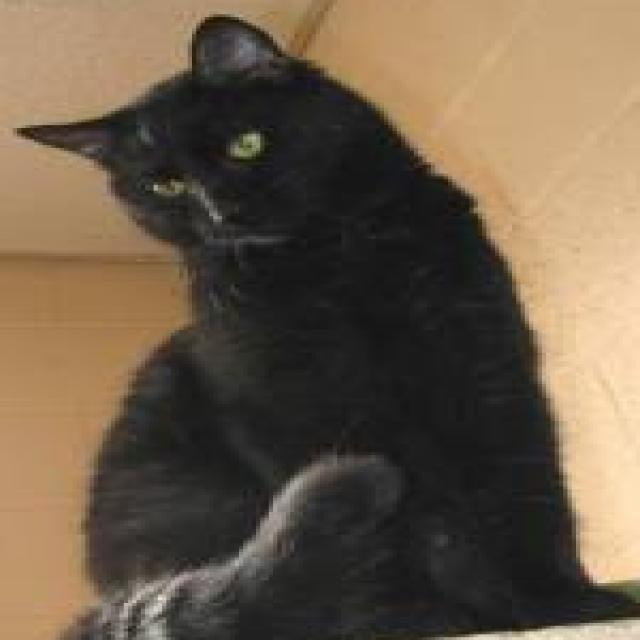Bombay: (8, 8, 640, 640)
